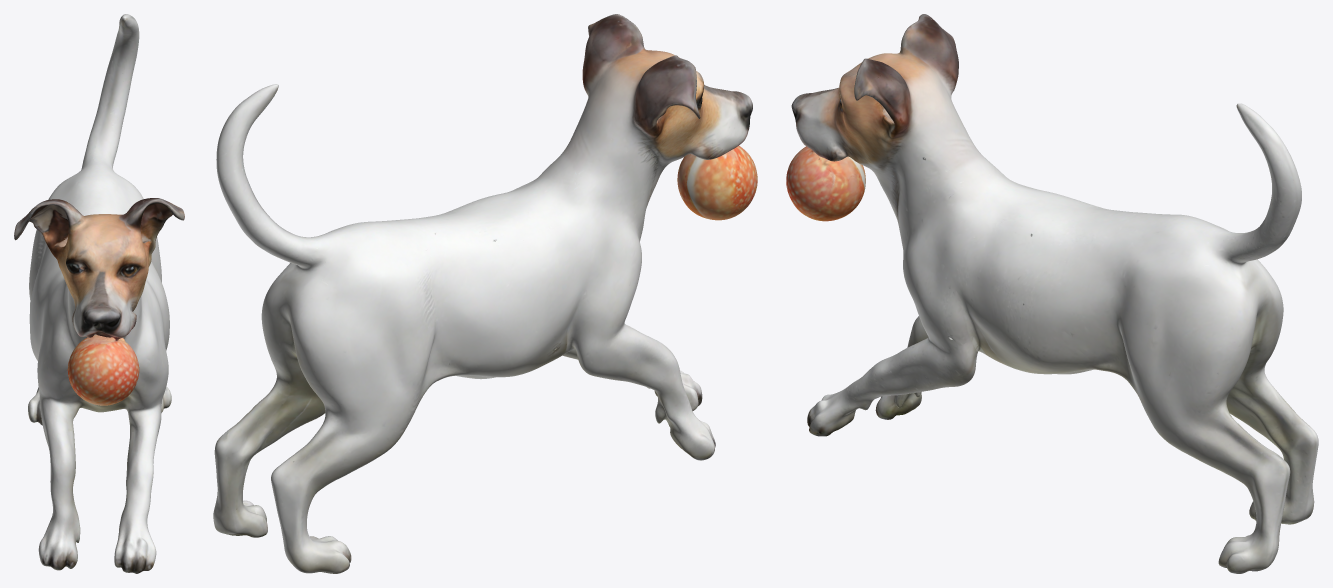
File: dog_3d_model.glb
3 views of the same model, side by side, from view 1: azimuth 30°, elevation 25°; view 2: azimuth 150°, elevation 25°; view 3: azimuth 270°, elevation 25° (orthographic). The views are drawn at different scales.
Parts seen in each view (by area): view 1: Mesh1_Mesh1.020; view 2: Mesh1_Mesh1.020; view 3: Mesh1_Mesh1.020.
Boxes of the visible parts, x1,y1,x2,y2 form: Mesh1_Mesh1.020: [14, 14, 184, 573]; Mesh1_Mesh1.020: [213, 14, 757, 573]; Mesh1_Mesh1.020: [786, 14, 1318, 573].
Size of the model in its own units: 1.4 by 1.87 by 2.
1 material, 1 textured.
